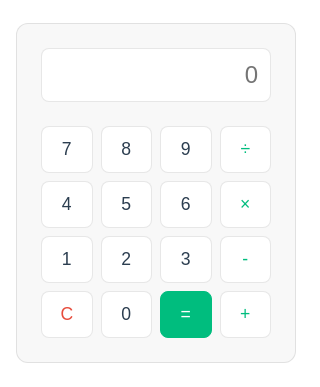
Test: CalculatorView › falls back to the status code when the error body is empty
Type "1+2" into the field with class "display".
click(156, 75); type("1+2")  # box [41,48,271,102]
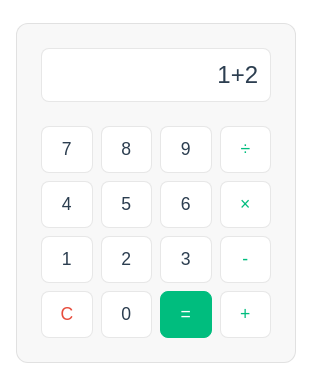
Click the button "=".
click(186, 314)  # box [160,291,212,338]
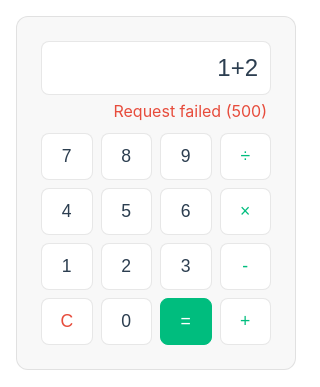
Expected: the text with class "error" reads "Request failed (500)", [114,101,267,121]
